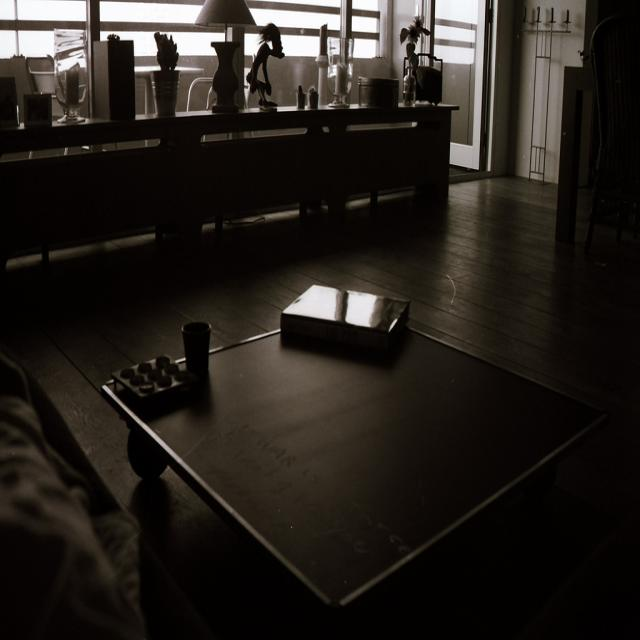Table: (87, 310, 602, 640), (0, 77, 479, 332)
